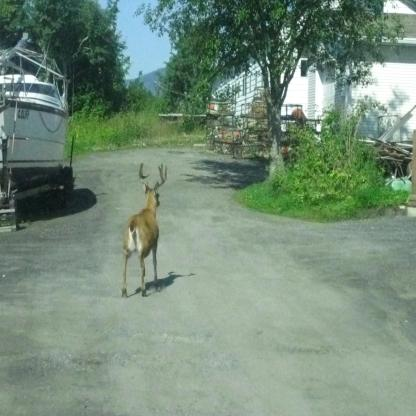Deer: (122, 163, 166, 298)
